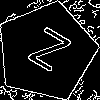Z: (21, 26, 73, 82)
